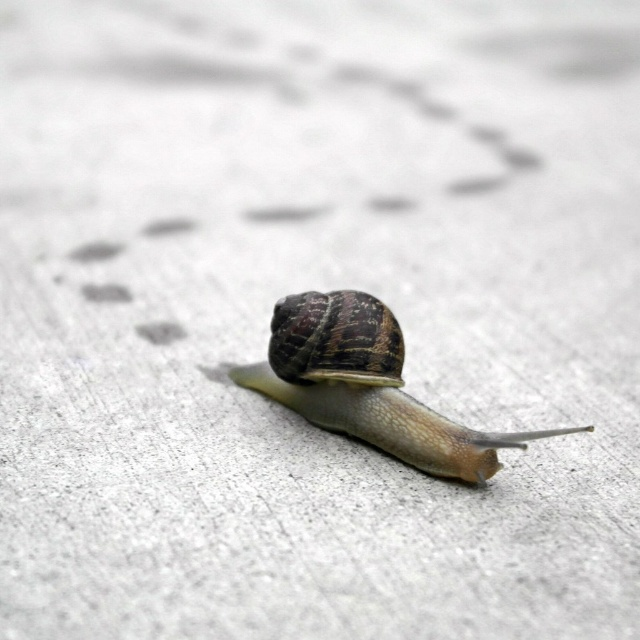Snail: (227, 288, 593, 494)
